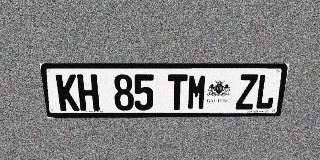5: (134, 74, 154, 110)
8: (113, 74, 134, 111)
H: (77, 74, 100, 111)
K: (55, 74, 80, 111)
L: (254, 74, 278, 109)
M: (187, 74, 208, 110)
T: (167, 74, 188, 110)
Z: (235, 74, 258, 110)
